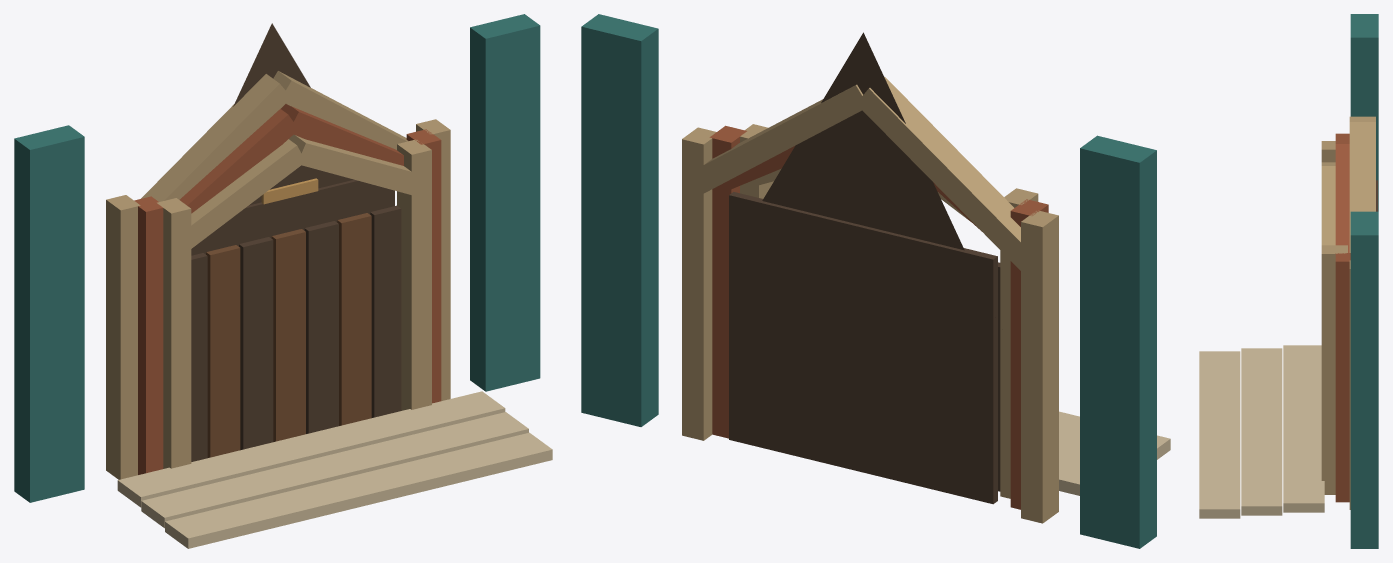
The model's file is main-portal.glb.
3 renders of one model, left to right at view 1: azimuth 30°, elevation 25°; view 2: azimuth 150°, elevation 25°; view 3: azimuth 270°, elevation 25°, orthographic. The views are drawn at different scales.
Visible parts, largest first — view 1: main-portal-surface; view 2: main-portal-surface; view 3: main-portal-surface.
Part boxes in pixels (<box>): main-portal-surface: <box>14,14,552,548</box>; main-portal-surface: <box>581,14,1170,548</box>; main-portal-surface: <box>1199,14,1378,548</box>.
Size of the model in its own units: 5.6 by 4.29 by 1.92.
